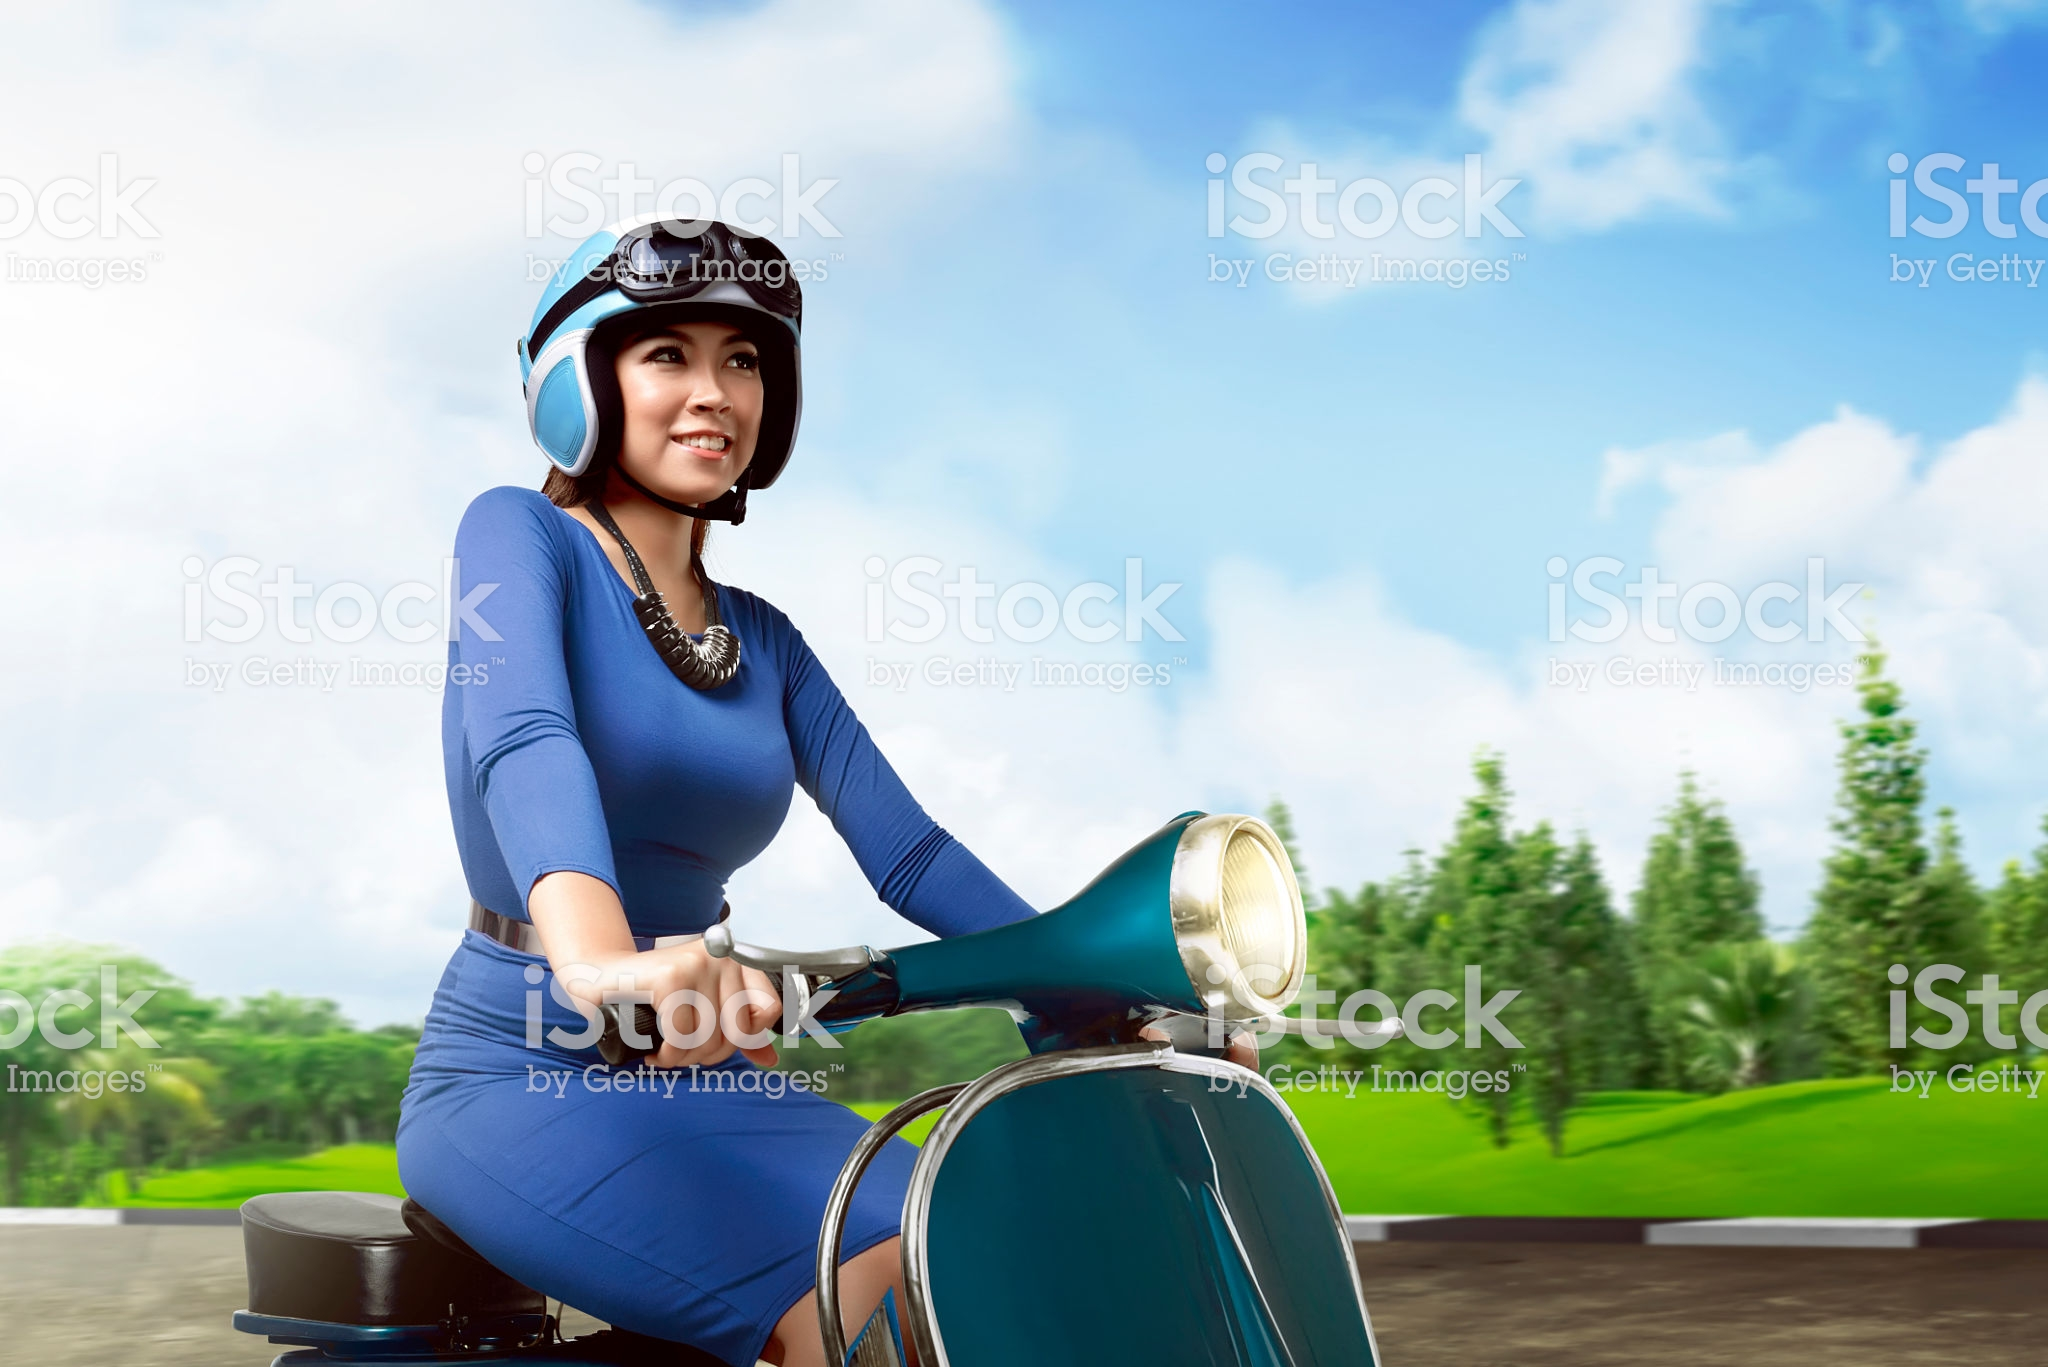helmet: (488, 230, 862, 499)
